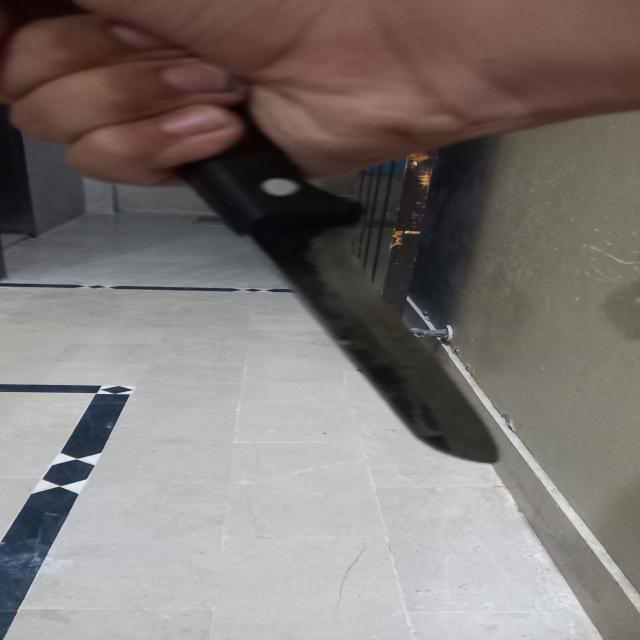Knife: (82, 48, 525, 473)
